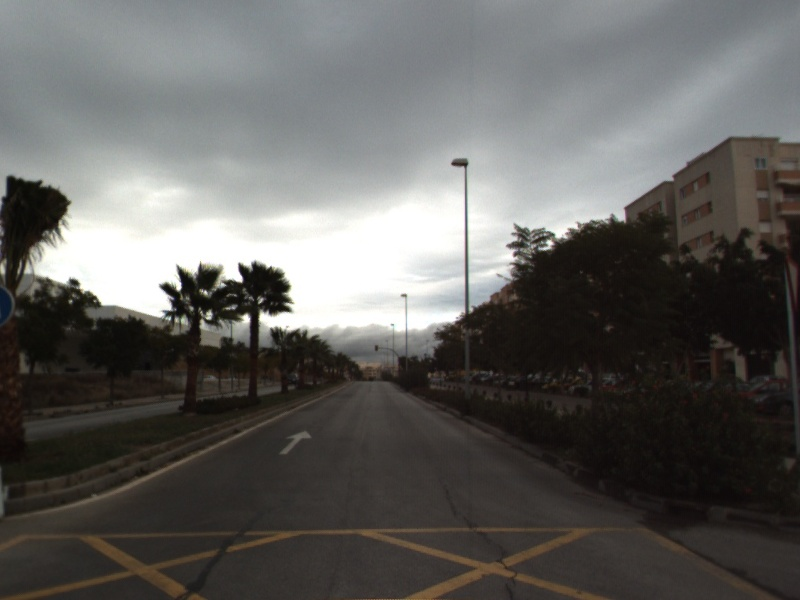STRAIGHT: (277, 429, 314, 456)
